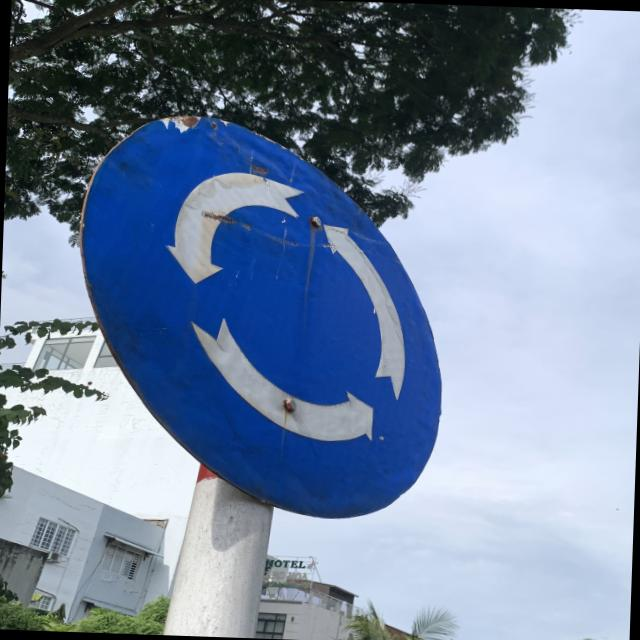Xe_Bus: (70, 101, 456, 522)
